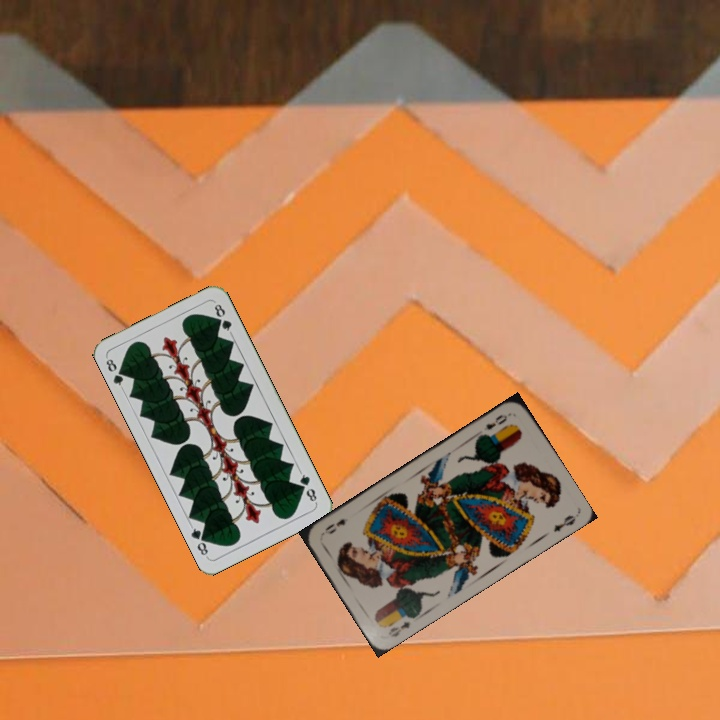EO: (478, 410, 510, 438), (384, 617, 412, 640)
G8: (102, 354, 129, 392), (295, 468, 319, 506)
